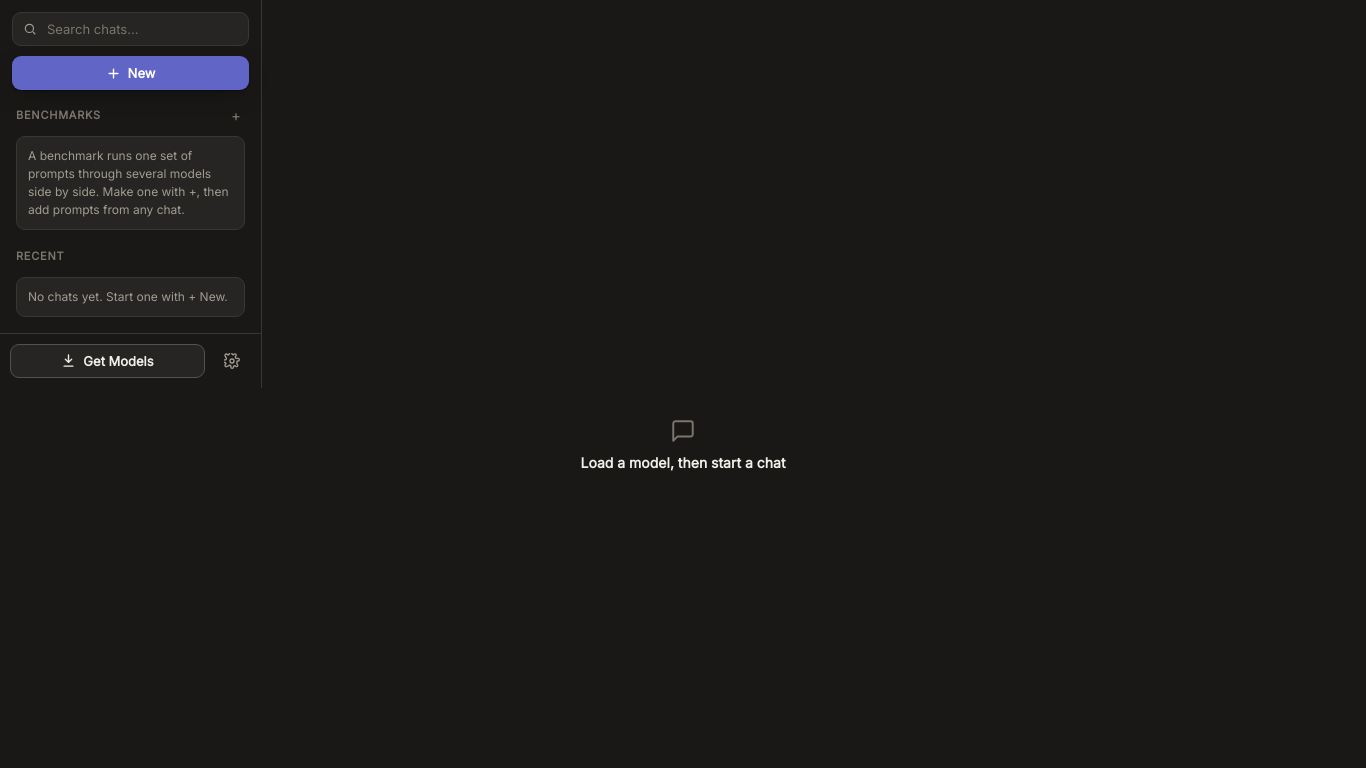
Test: ChatView › newChat binds the loaded model; blocked when nothing is loaded
Step 1. Click the button "New" → point(130, 73), box [12, 56, 249, 90]
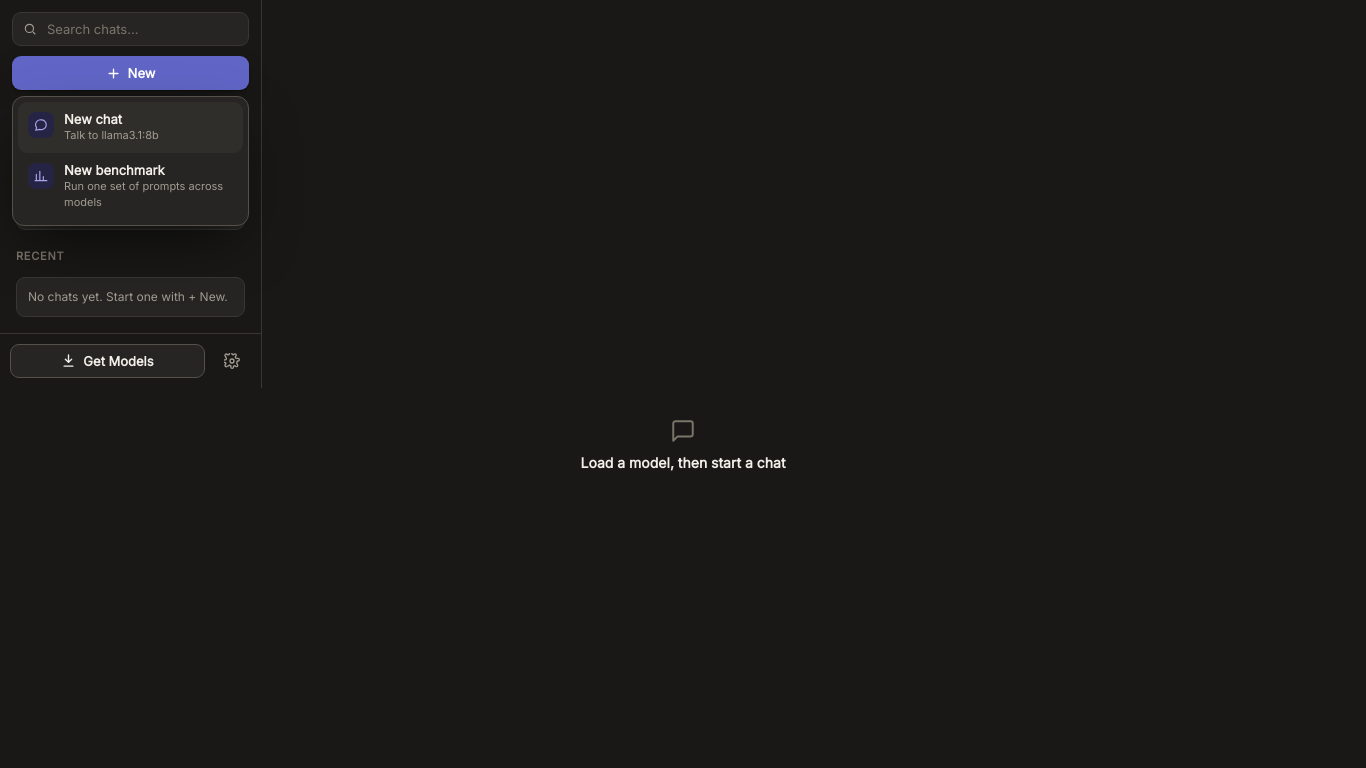
Expected: the text "Talk to llama3.1:8b" is shown, [64, 128, 159, 142]
Step 2. Click the button "New" → point(130, 73), box [12, 56, 249, 90]
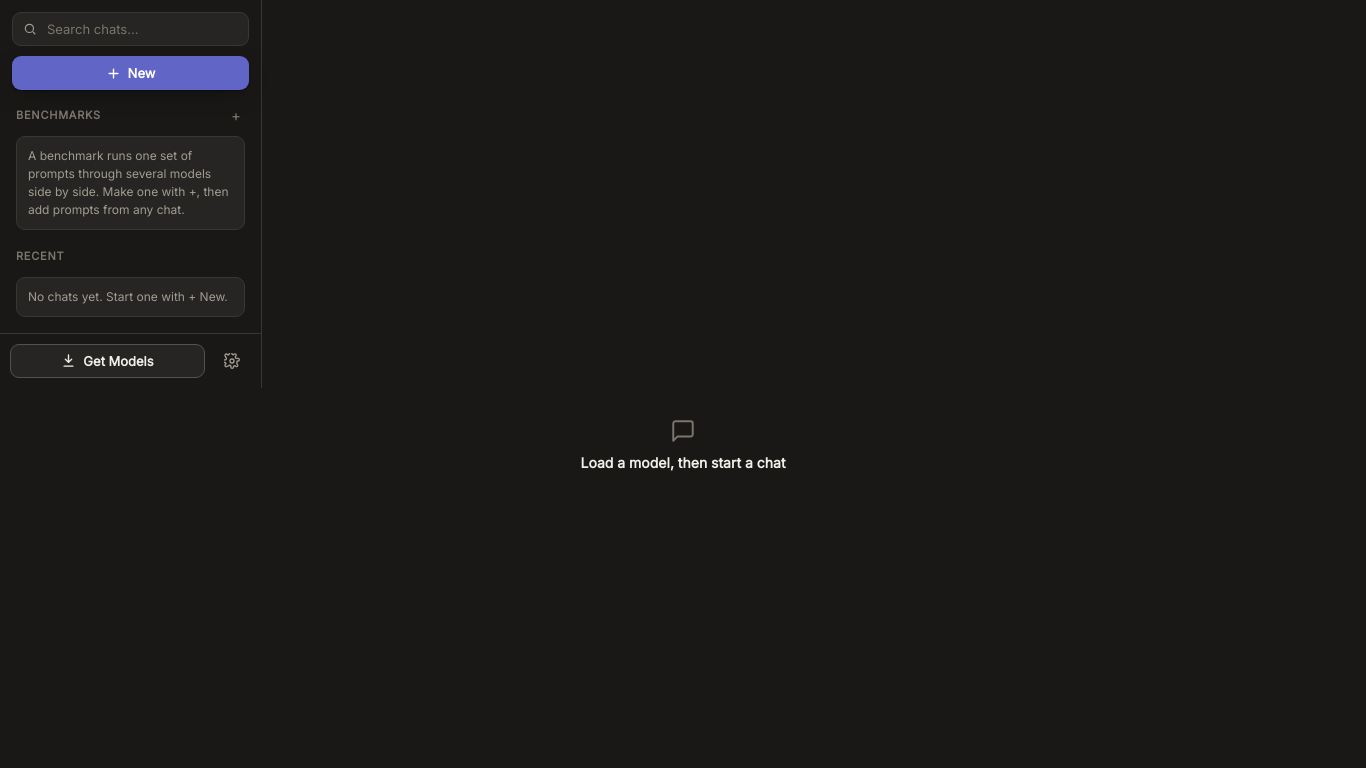
Step 3. Click the button "New" → point(130, 73), box [12, 56, 249, 90]
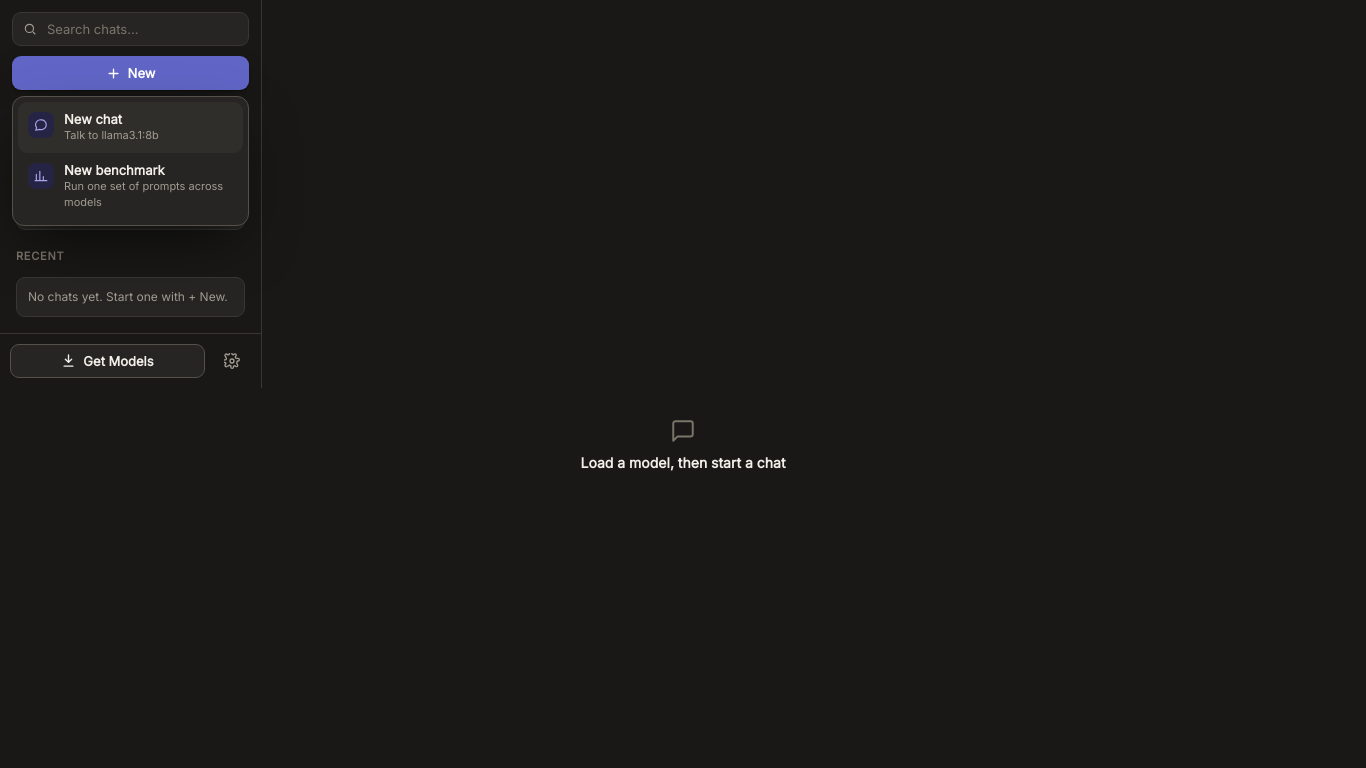
Expected: the text "Talk to llama3.1:8b" is shown, [64, 128, 159, 142]
Step 4. Click the menu item "New chat Talk to llama3.1:8b" → point(130, 127), box [18, 102, 243, 153]
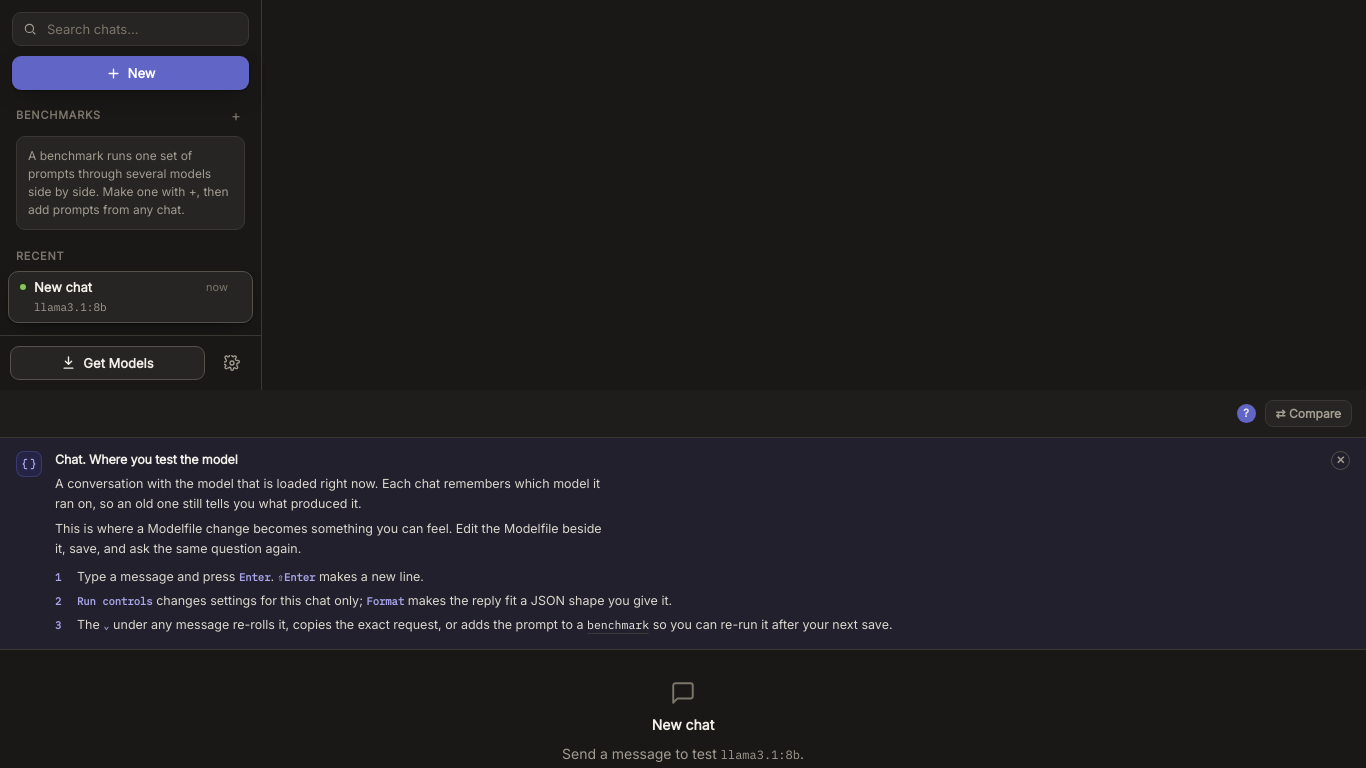
Expected: the text "llama3.1:8b" next to "Send a message to test" is shown, [721, 746, 800, 762]
Expected: the text "llama3.1:8b" below "Recent" is shown, [34, 300, 107, 314]
Expected: the text "New chat" below "Recent" is shown, [34, 278, 92, 294]
